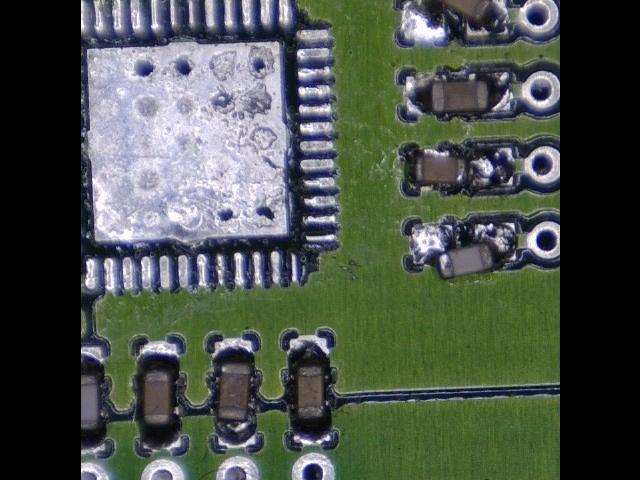Incorrect_installation: (411, 223, 516, 280), (409, 146, 515, 190), (401, 1, 509, 42)
